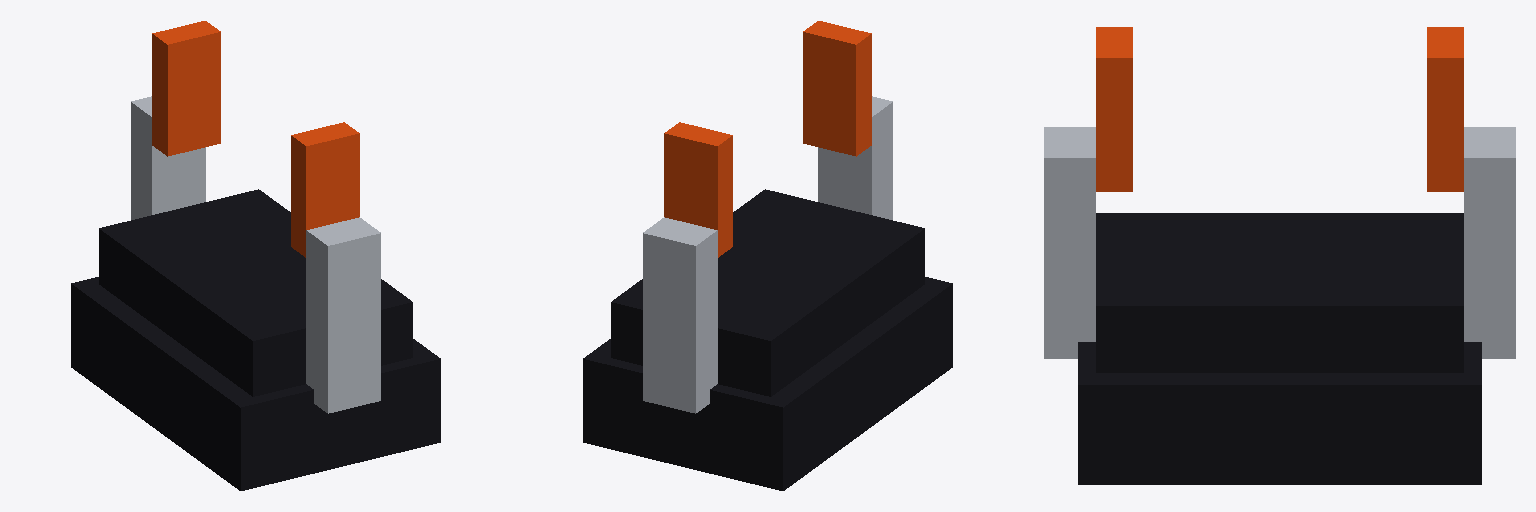
URDF robot description (parallel_gripper):
<?xml version="1.0"?>
<robot name="parallel_gripper">
  <material name="gbody"><color rgba="0.12 0.12 0.14 1"/></material>
  <material name="gfinger"><color rgba="0.75 0.77 0.80 1"/></material>
  <material name="gpad"><color rgba="0.9 0.35 0.1 1"/></material>
  <link name="gripper_base"><inertial><mass value="0.45"/><origin xyz="0 0 0.03"/><inertia ixx="1e-4" iyy="1e-4" izz="5e-5" ixy="0" ixz="0" iyz="0"/></inertial><visual><geometry><box size="0.075 0.11 0.03"/></geometry><origin xyz="0 0 0.015"/><material name="gbody"/></visual><collision><geometry><box size="0.075 0.11 0.03"/></geometry><origin xyz="0 0 0.015"/></collision><visual><geometry><box size="0.06 0.1 0.02"/></geometry><origin xyz="0 0 0.04"/><material name="gbody"/></visual><collision><geometry><box size="0.06 0.1 0.02"/></geometry><origin xyz="0 0 0.04"/></collision></link>
  <link name="finger_l"><inertial><mass value="0.05"/><origin xyz="0 0 0.03"/><inertia ixx="1e-4" iyy="1e-4" izz="5e-5" ixy="0" ixz="0" iyz="0"/></inertial><visual><geometry><box size="0.02 0.014 0.06"/></geometry><origin xyz="0 0.012 0.055"/><material name="gfinger"/></visual><visual><geometry><box size="0.02 0.01 0.04"/></geometry><origin xyz="0 0 0.095"/><material name="gpad"/></visual><collision><geometry><box size="0.02 0.01 0.04"/></geometry><origin xyz="0 0 0.095"/></collision></link>
  <link name="finger_r"><inertial><mass value="0.05"/><origin xyz="0 0 0.03"/><inertia ixx="1e-4" iyy="1e-4" izz="5e-5" ixy="0" ixz="0" iyz="0"/></inertial><visual><geometry><box size="0.02 0.014 0.06"/></geometry><origin xyz="0 -0.012 0.055"/><material name="gfinger"/></visual><visual><geometry><box size="0.02 0.01 0.04"/></geometry><origin xyz="0 0 0.095"/><material name="gpad"/></visual><collision><geometry><box size="0.02 0.01 0.04"/></geometry><origin xyz="0 0 0.095"/></collision></link>
  <joint name="finger_l_joint" type="prismatic"><parent link="gripper_base"/><child link="finger_l"/><origin xyz="0 0.045 0"/><axis xyz="0 -1 0"/><limit lower="0" upper="0.04" effort="235.0" velocity="0.15"/></joint>
  <joint name="finger_r_joint" type="prismatic"><parent link="gripper_base"/><child link="finger_r"/><origin xyz="0 -0.045 0"/><axis xyz="0 1 0"/><limit lower="0" upper="0.04" effort="235.0" velocity="0.15"/></joint>
</robot>

--- What the picture shows (computed from the rendered views, not written in the file) ---
Views: 3 orthographic renders of the robot side by side, from view 1: azimuth 30°, elevation 25°; view 2: azimuth 150°, elevation 25°; view 3: azimuth 270°, elevation 25°.
Model parallel_gripper with 3 links and 2 joints (2 prismatic), rooted at gripper_base, posed all joints at 0.
Visible links, largest first — view 1: gripper_base, finger_r, finger_l; view 2: gripper_base, finger_l, finger_r; view 3: gripper_base, finger_l, finger_r.
Link boxes in pixels (left/top/right/bottom): gripper_base: left=71, top=189, right=440, bottom=490; finger_r: left=291, top=122, right=380, bottom=413; finger_l: left=131, top=21, right=220, bottom=219; gripper_base: left=583, top=189, right=952, bottom=490; finger_l: left=643, top=122, right=732, bottom=413; finger_r: left=803, top=21, right=892, bottom=219; gripper_base: left=1078, top=213, right=1481, bottom=484; finger_l: left=1427, top=27, right=1515, bottom=358; finger_r: left=1044, top=27, right=1132, bottom=358.
Size in the robot's own frame: 0.075 by 0.128 by 0.115 metres.
Geometry: primitives only (box / cylinder / sphere), no mesh files.
